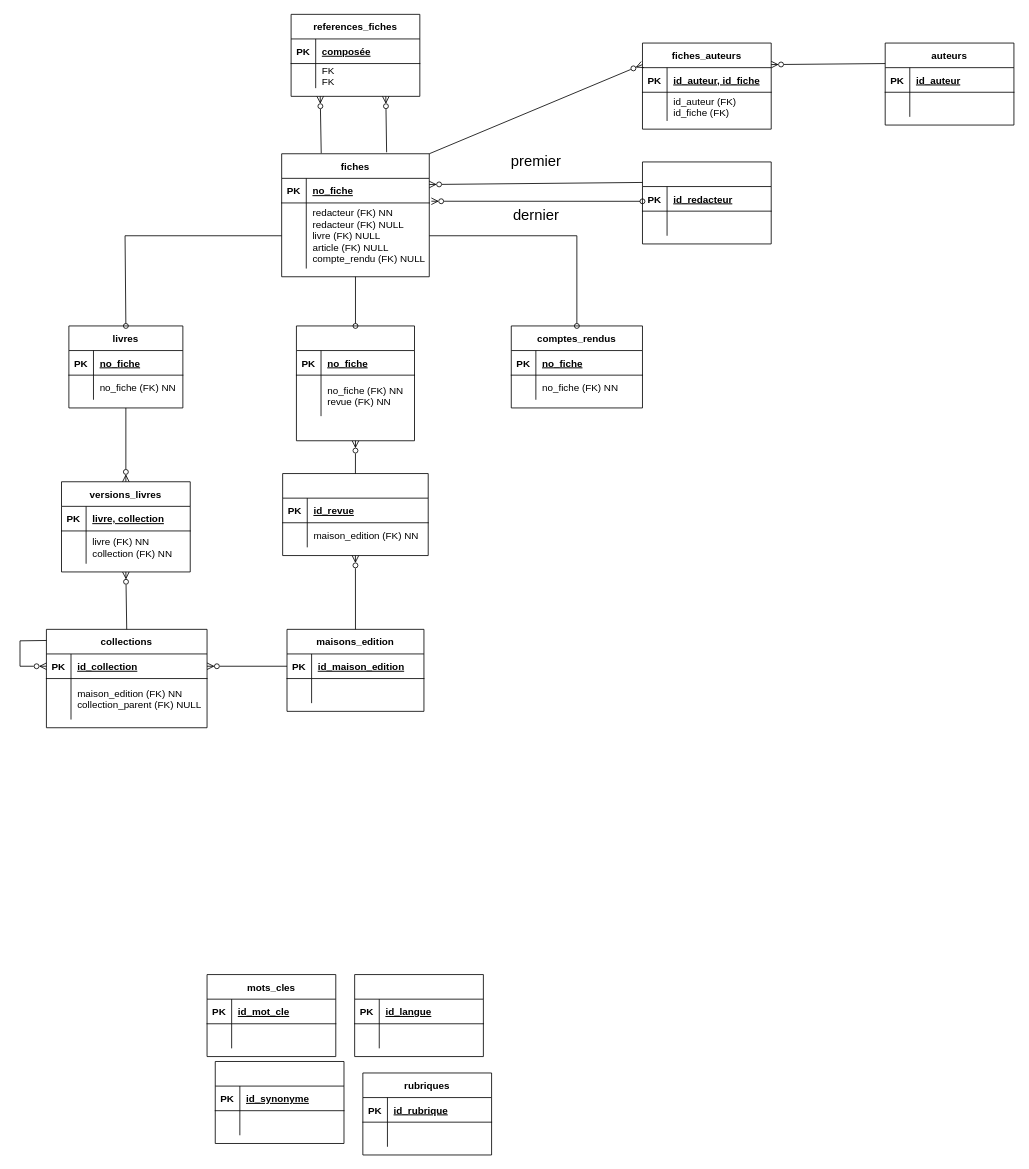
Image size: 1029x1169. Some labels were removed from this diagram. Here are the shapes that lost their labels. From the top down, the box of each, then its label:
(642, 161, 771, 244): redacteurs
(296, 325, 415, 441): articles
(282, 473, 428, 556): revues
(354, 974, 483, 1057): langues
(214, 1061, 344, 1143): synonymes
